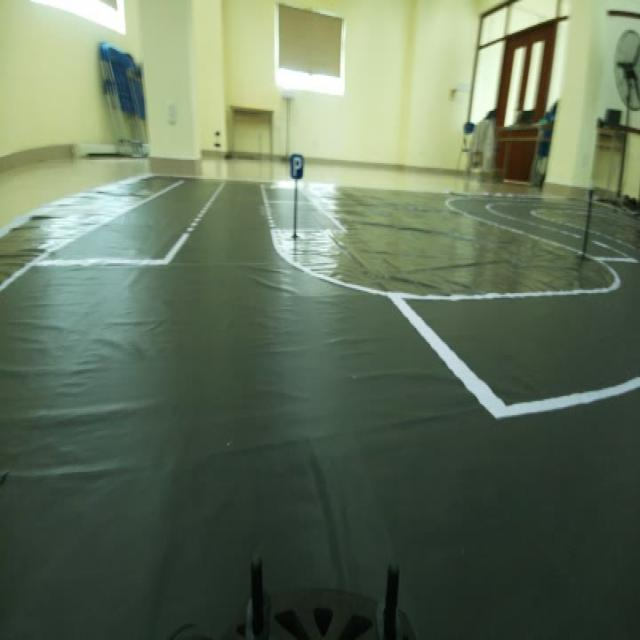parking: (290, 154, 306, 184)
